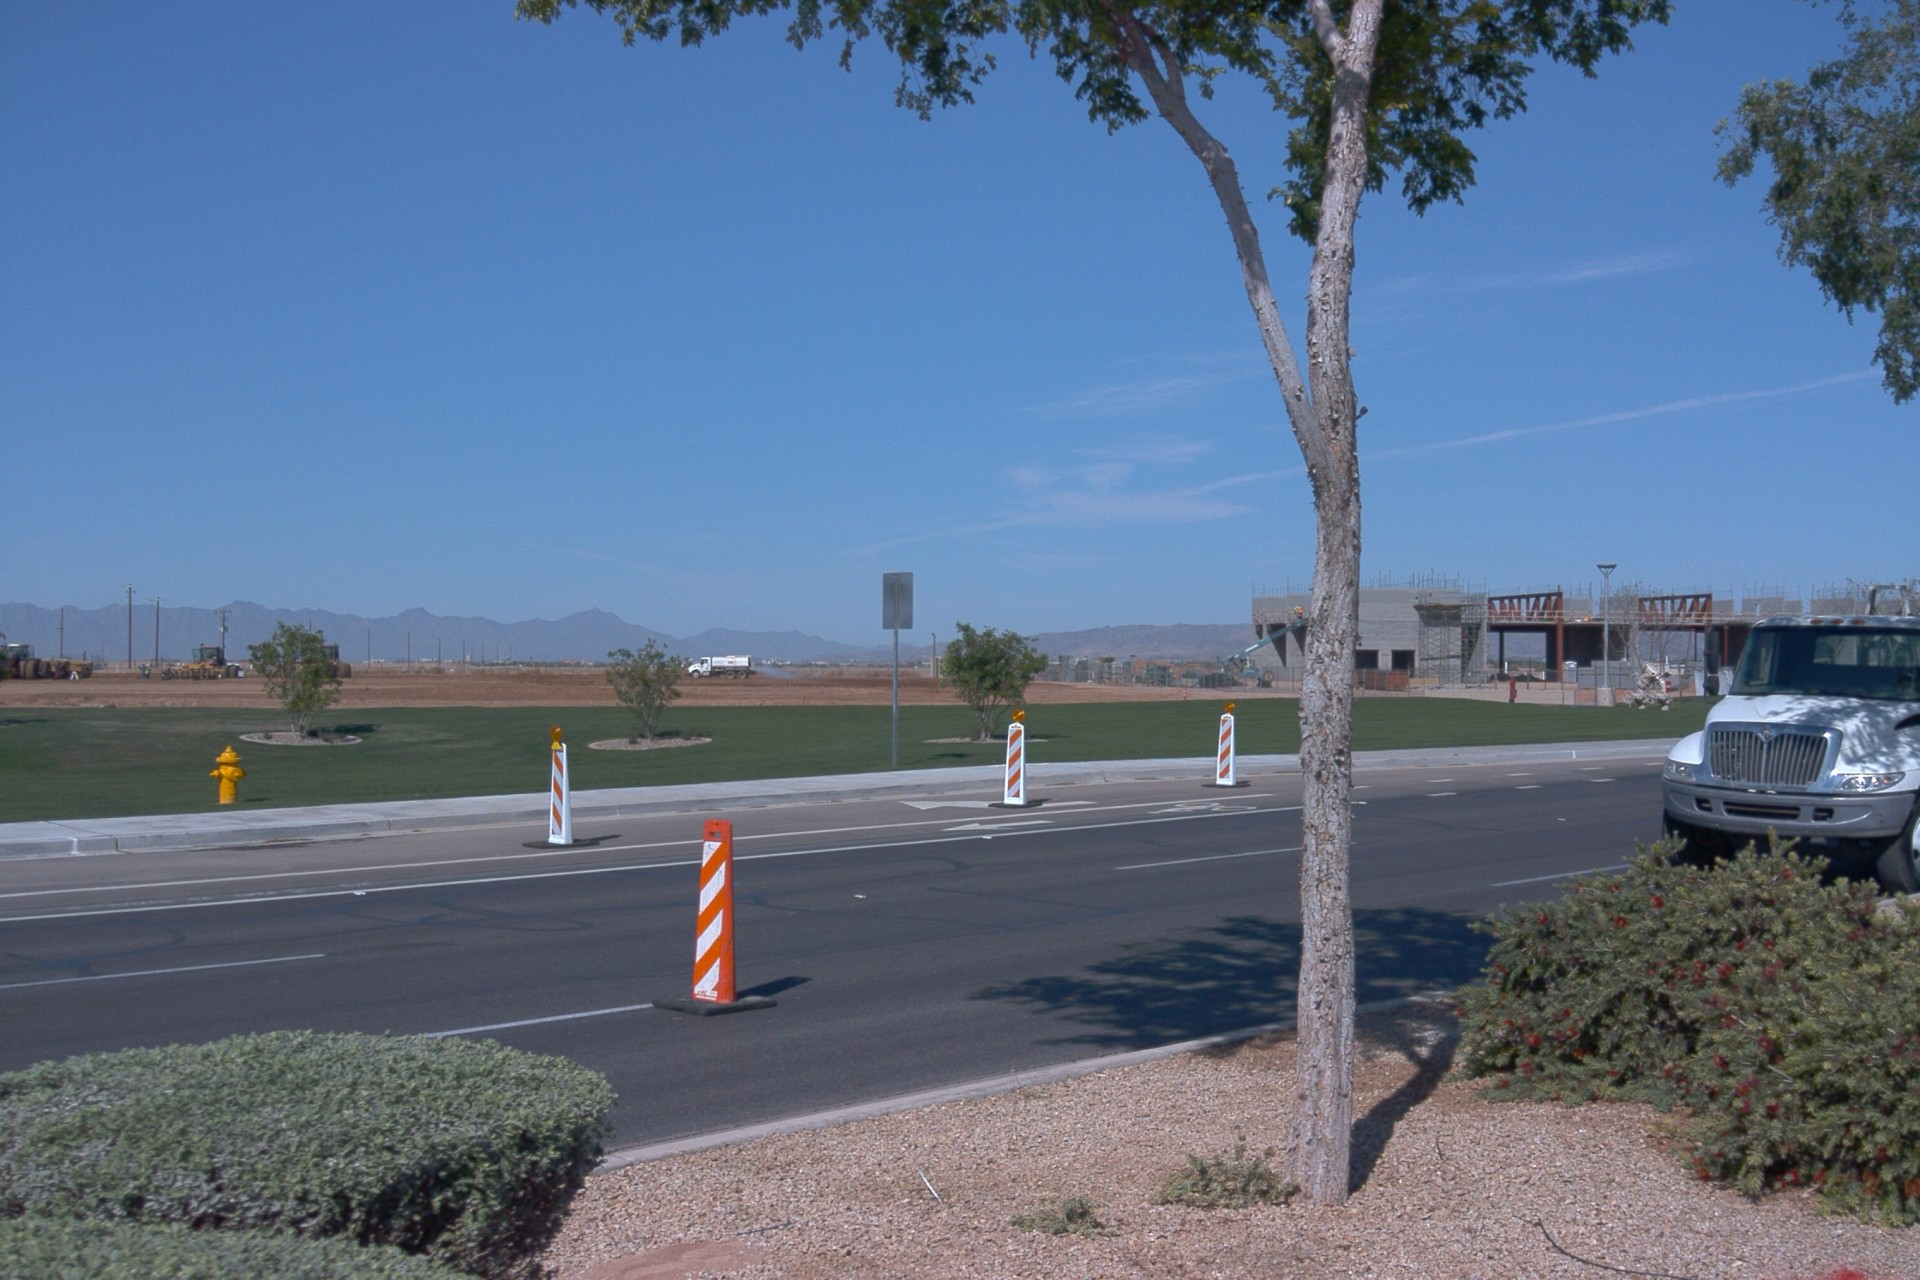TYPE_PEDESTRIAN: (144, 664, 152, 680)
TYPE_VEHICLE: (1657, 585, 1920, 897), (1220, 617, 1312, 681), (5, 641, 95, 681), (687, 648, 754, 682), (223, 666, 244, 683)
